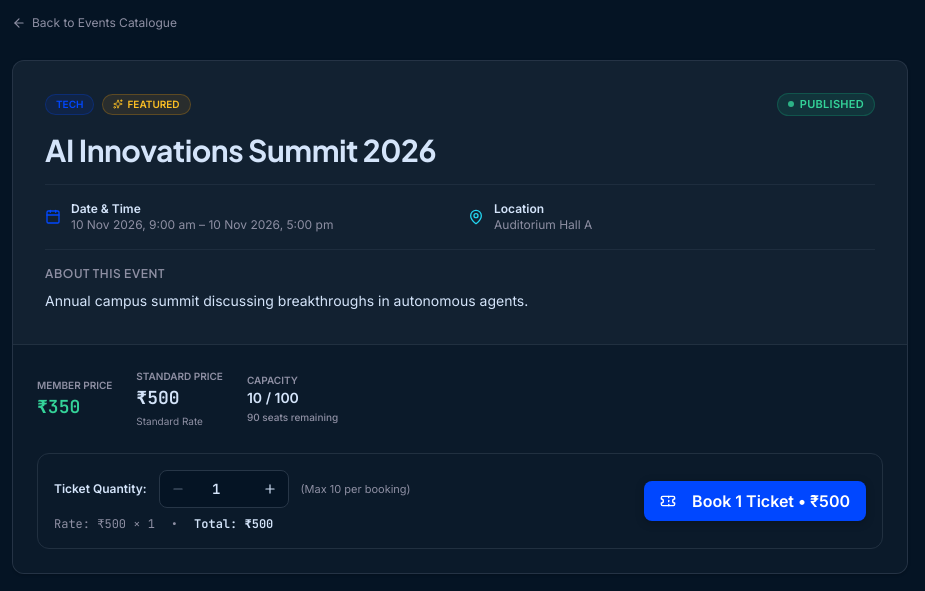
Test: EventDetailPage Checkout Modal & Booking Workflow › renders event pricing and live total correctly for quantity changes
expect the heading "AI Innovations Summit 2026" is shown: met, box [45,130,436,168]
expect the button "Book 1 Ticket • ₹500" is shown: met, box [644,481,866,521]
# Increase quantity to 2
Click the button named "Increase quantity": x=270, y=489 [256,475,284,503]
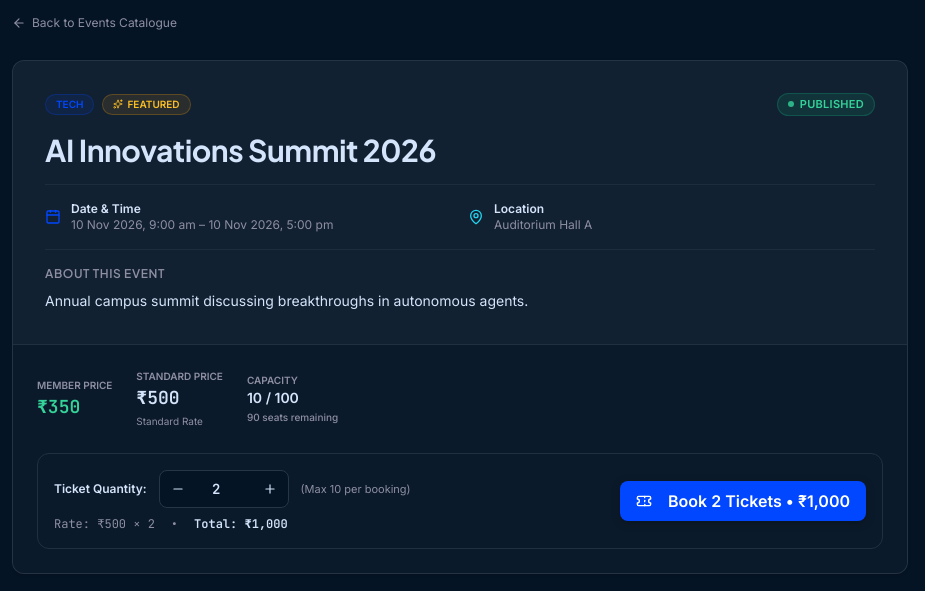
expect the button "Book 2 Tickets • ₹1,000" is shown: met, box [620,481,866,521]
